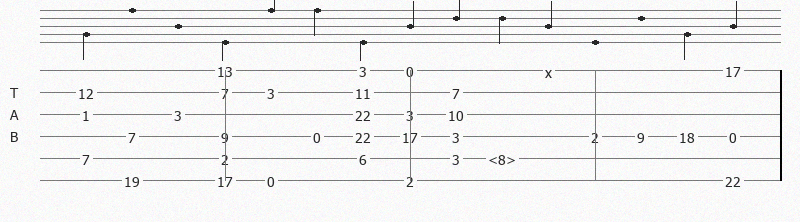0: (267, 173, 279, 187), (313, 129, 325, 143), (406, 63, 418, 77), (729, 129, 741, 143)
1: (82, 107, 94, 121)
10: (448, 107, 468, 121)
11: (355, 85, 375, 99)
12: (78, 85, 98, 99)
13: (217, 63, 237, 77)
17: (217, 173, 237, 187), (402, 129, 422, 143), (725, 63, 745, 77)
18: (679, 129, 699, 143)
19: (124, 173, 144, 187)
2: (221, 151, 233, 165), (406, 173, 418, 187), (591, 129, 603, 143)
22: (355, 129, 375, 143), (355, 107, 375, 121), (725, 173, 745, 187)
3: (174, 107, 186, 121), (267, 85, 279, 99), (359, 63, 371, 77), (406, 107, 418, 121), (452, 129, 464, 143), (452, 151, 464, 165)
6: (359, 151, 371, 165)
7: (82, 151, 94, 165), (128, 129, 140, 143), (221, 85, 233, 99), (452, 85, 464, 99)
9: (221, 129, 233, 143), (637, 129, 649, 143)
harmonic: (488, 151, 520, 165)
x: (545, 64, 556, 76)
